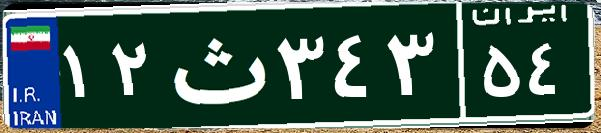1: (57, 26, 110, 107)
2: (110, 28, 158, 105)
3: (385, 28, 445, 110), (273, 28, 330, 110)
4: (330, 28, 385, 110), (525, 38, 570, 115)
5: (475, 38, 525, 113)
ث: (158, 15, 273, 115)
